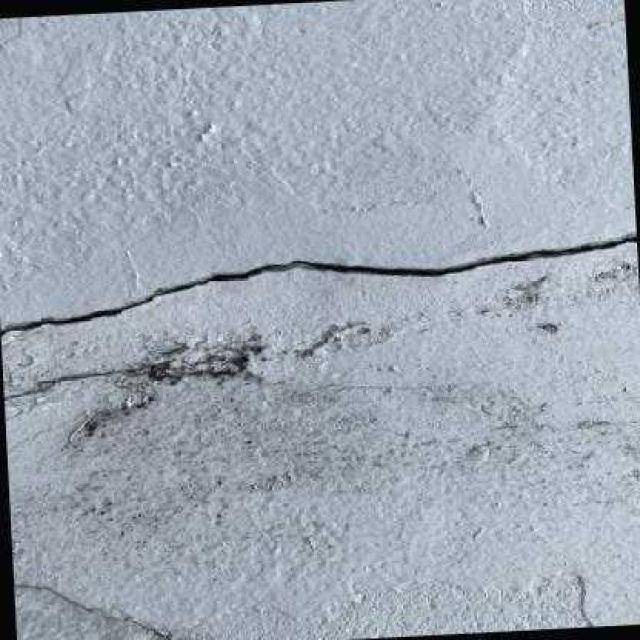D00: (0, 232, 636, 334)
